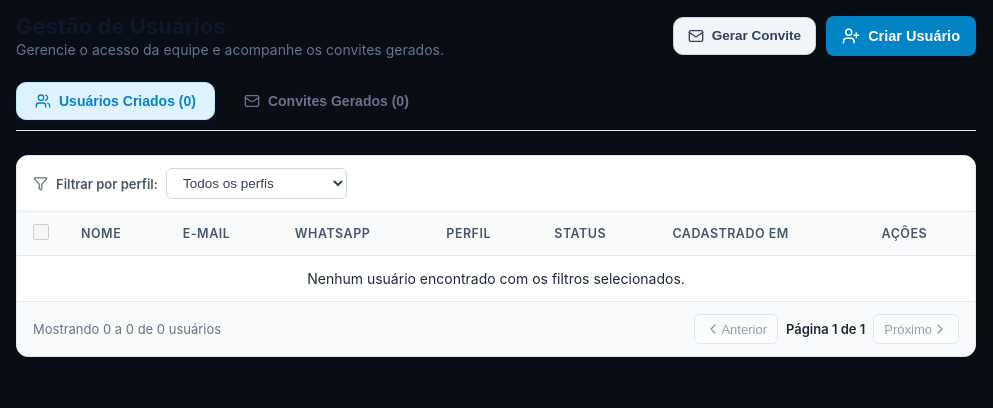
Test: UserManagement Component Tabs › renders the 2 tabs: "Usuários Criados" and "Convites Gerados"
This screenshot has width=993, height=408.
Expected: the button with test id "tab-users-btn" is shown, [16,82,215,120]
Expected: the element with test id "users-table-view" is shown, [16,155,976,357]
// Clica na aba de convites
Step 1. Click the button with test id "tab-invites-btn" → x=326, y=101, box [225,82,428,120]
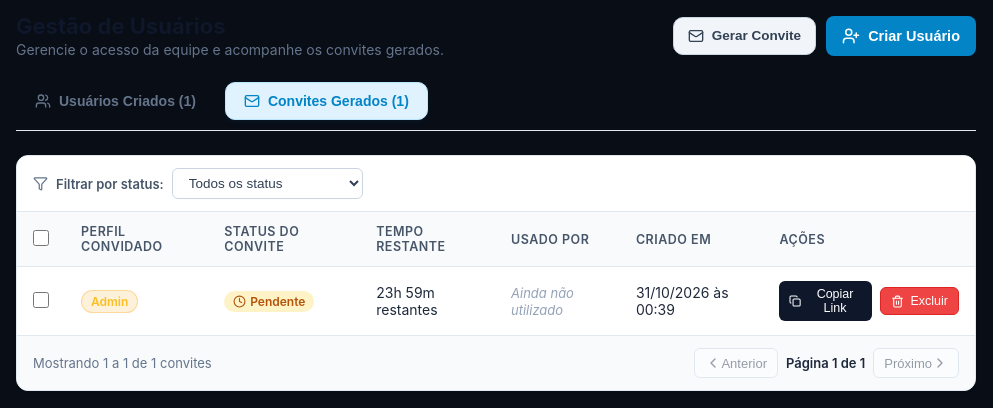
Expected: the element with test id "invites-table-view" is shown, [16,155,976,391]
Expected: the column heading "Status do Convite" is shown, [208,212,360,266]
Expected: the column heading "Tempo Restante" is shown, [360,212,495,266]
